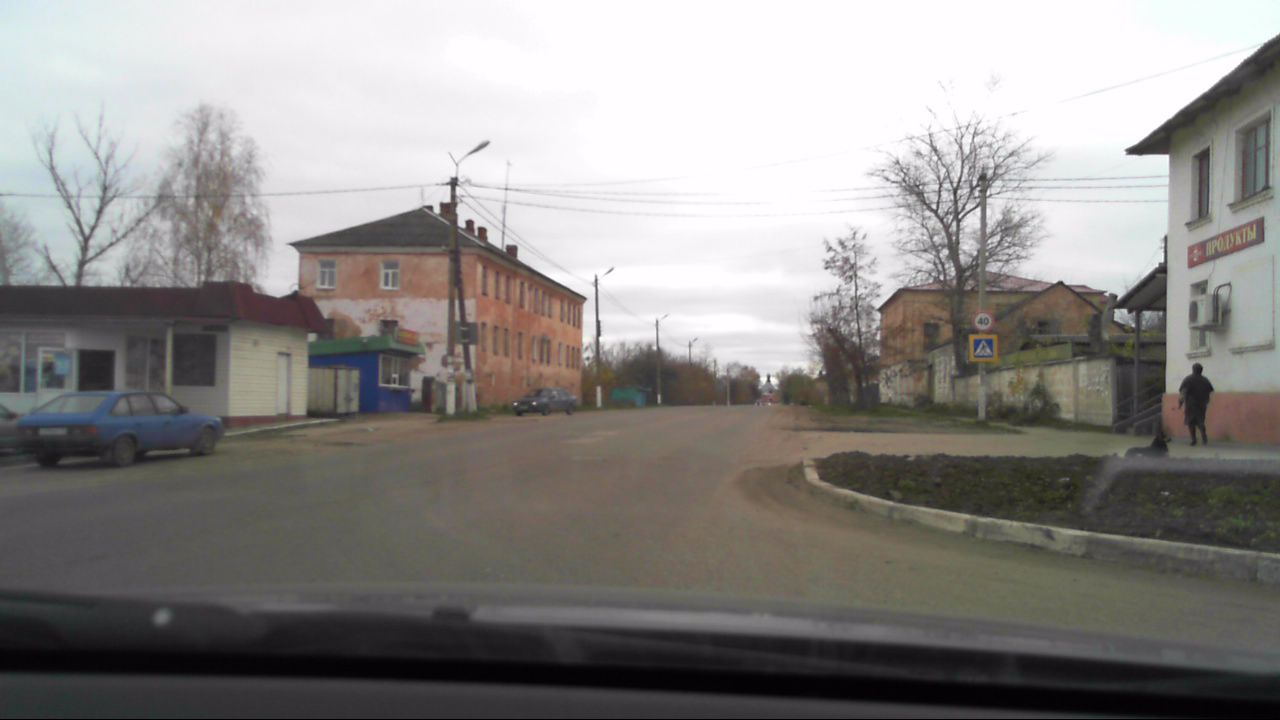speed_warning_40: (972, 310, 992, 330)
